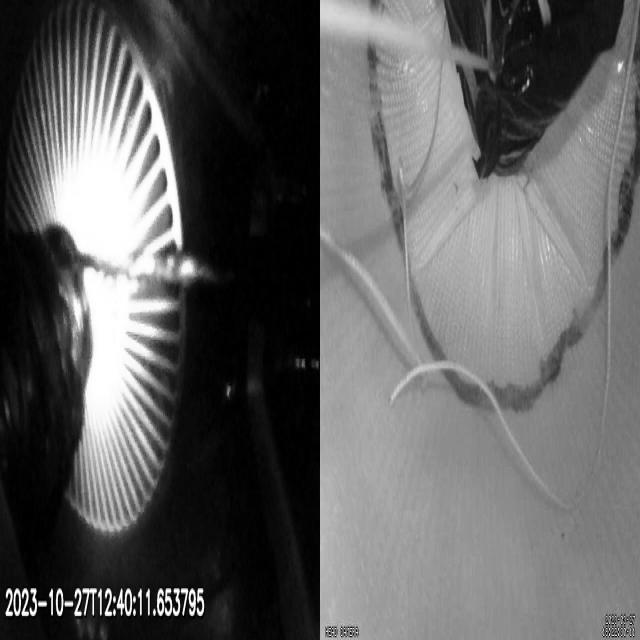red-circle: (367, 3, 640, 412)
